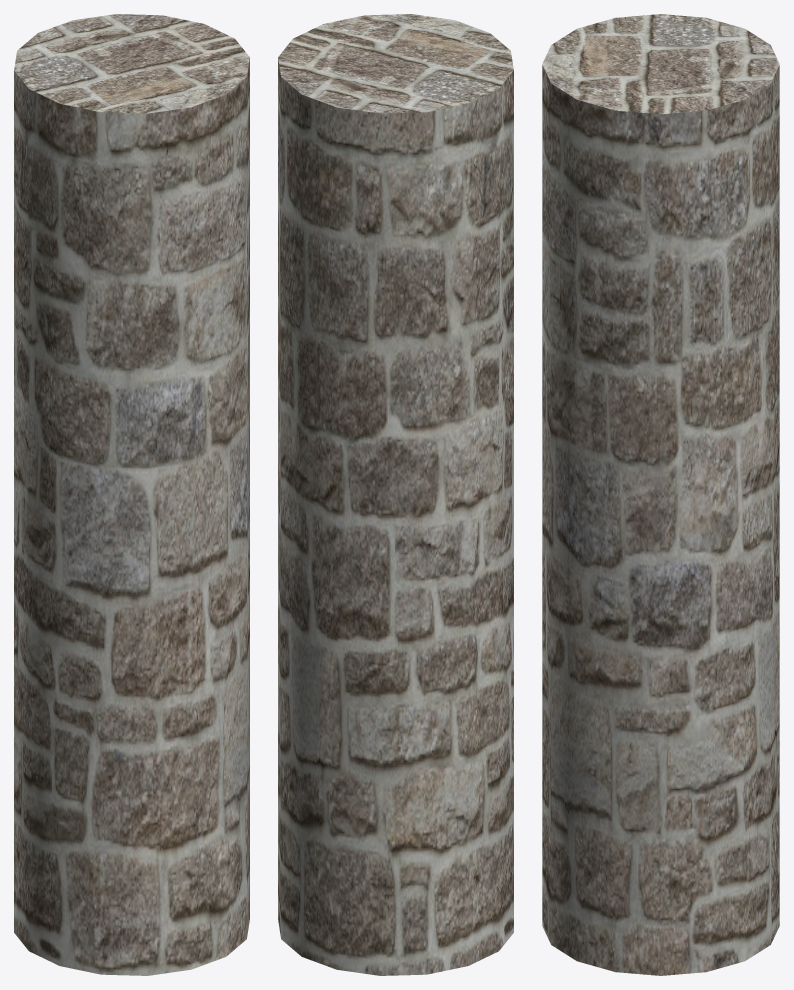
File: wall_column_small.obj
3 views of the same model, side by side, from view 1: azimuth 30°, elevation 25°; view 2: azimuth 150°, elevation 25°; view 3: azimuth 270°, elevation 25° (orthographic).
Size of the model in its own units: 0.5 by 2 by 0.5.
Materials: 1 (1 with a texture image).
